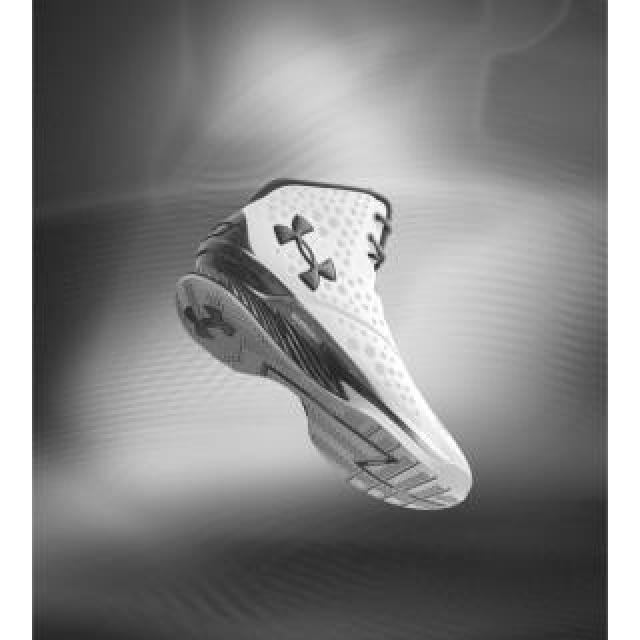shoe: (172, 176, 476, 512)
